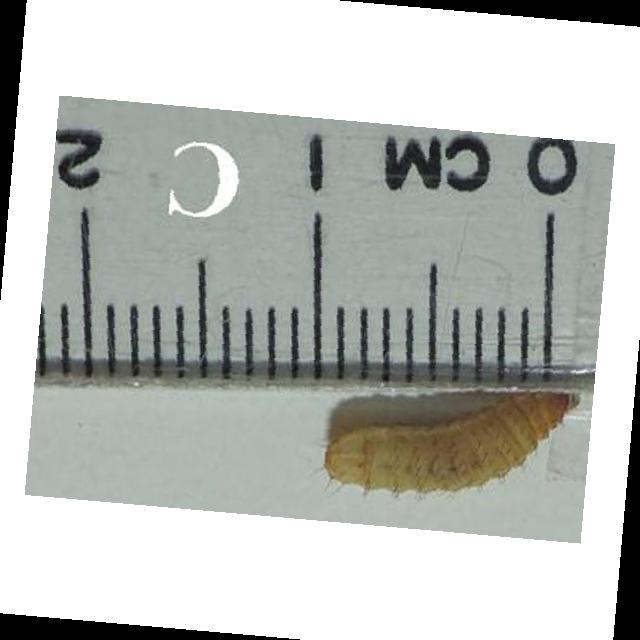Maggot: (325, 385, 587, 495)
